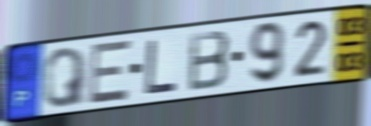2: (294, 18, 330, 80)
9: (247, 20, 287, 87)
B: (186, 28, 233, 94)
E: (86, 37, 134, 107)
L: (143, 37, 180, 98)
Q: (42, 45, 89, 110)
